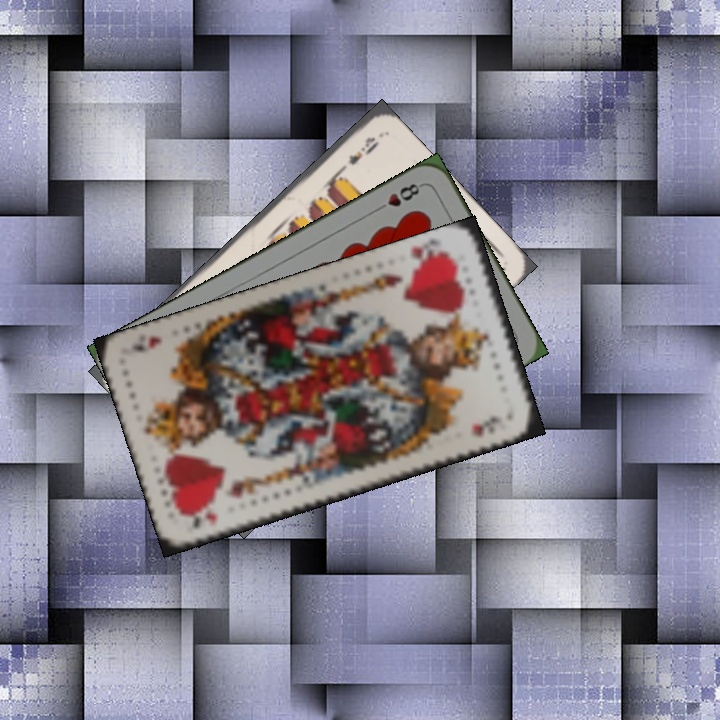E9: (334, 132, 382, 177)
H8: (371, 179, 426, 215)
HK: (180, 507, 221, 537), (405, 240, 433, 272)
